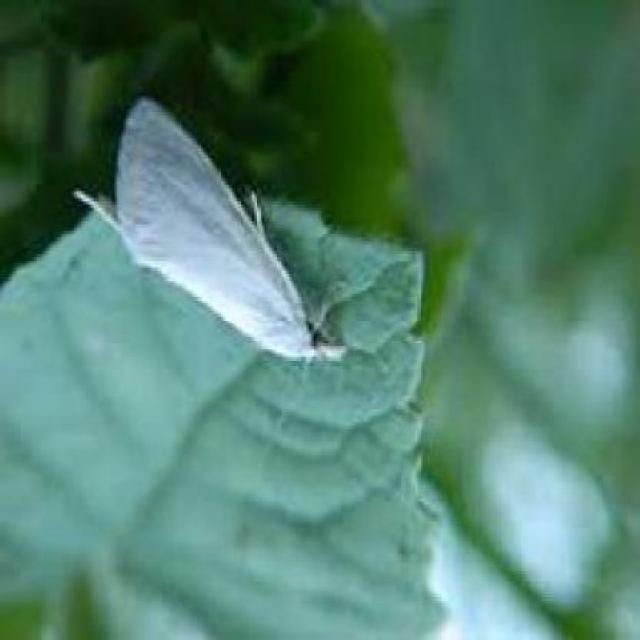stem-borer: (69, 90, 349, 368)
